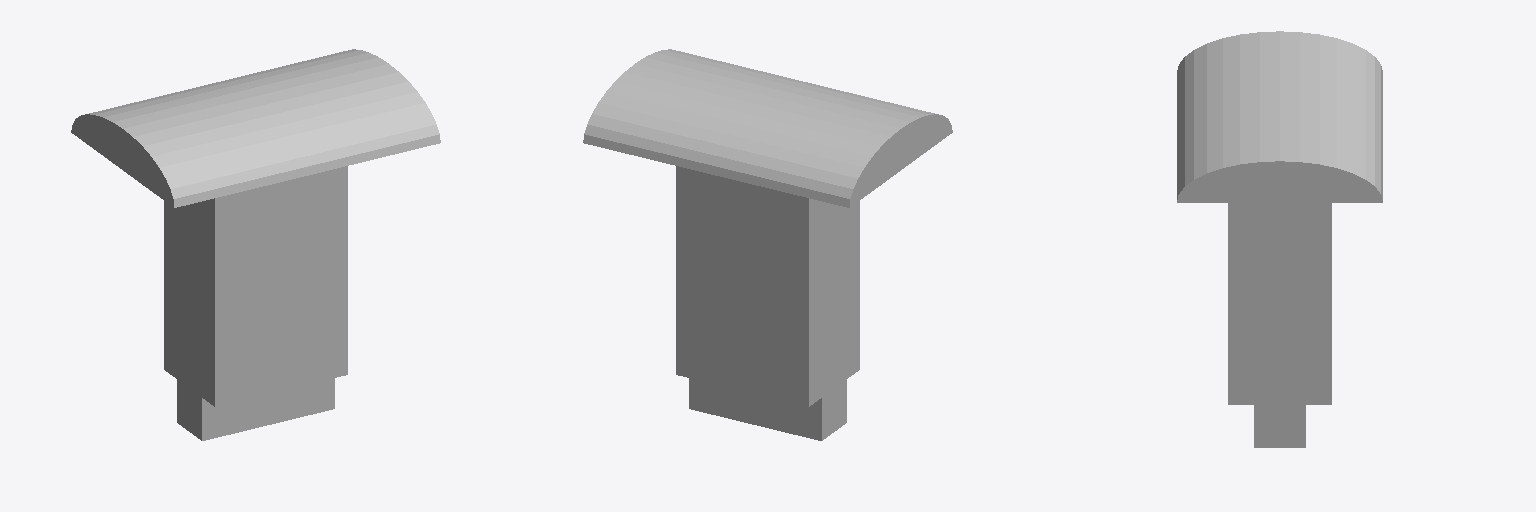
Rendered from body_r_dist_pinvround.obj.
3 views of the same model, side by side, from view 1: azimuth 30°, elevation 25°; view 2: azimuth 150°, elevation 25°; view 3: azimuth 270°, elevation 25° (orthographic).
Parts seen in each view (by area): view 1: body_r_dist_pinvround_Cube.091; view 2: body_r_dist_pinvround_Cube.091; view 3: body_r_dist_pinvround_Cube.091.
Part boxes in pixels (bbox=[...]): body_r_dist_pinvround_Cube.091: bbox=[71, 49, 440, 440]; body_r_dist_pinvround_Cube.091: bbox=[583, 49, 952, 440]; body_r_dist_pinvround_Cube.091: bbox=[1177, 31, 1382, 447].
Bounding box in the file's own units: 0.064 × 0.0733 × 0.043.